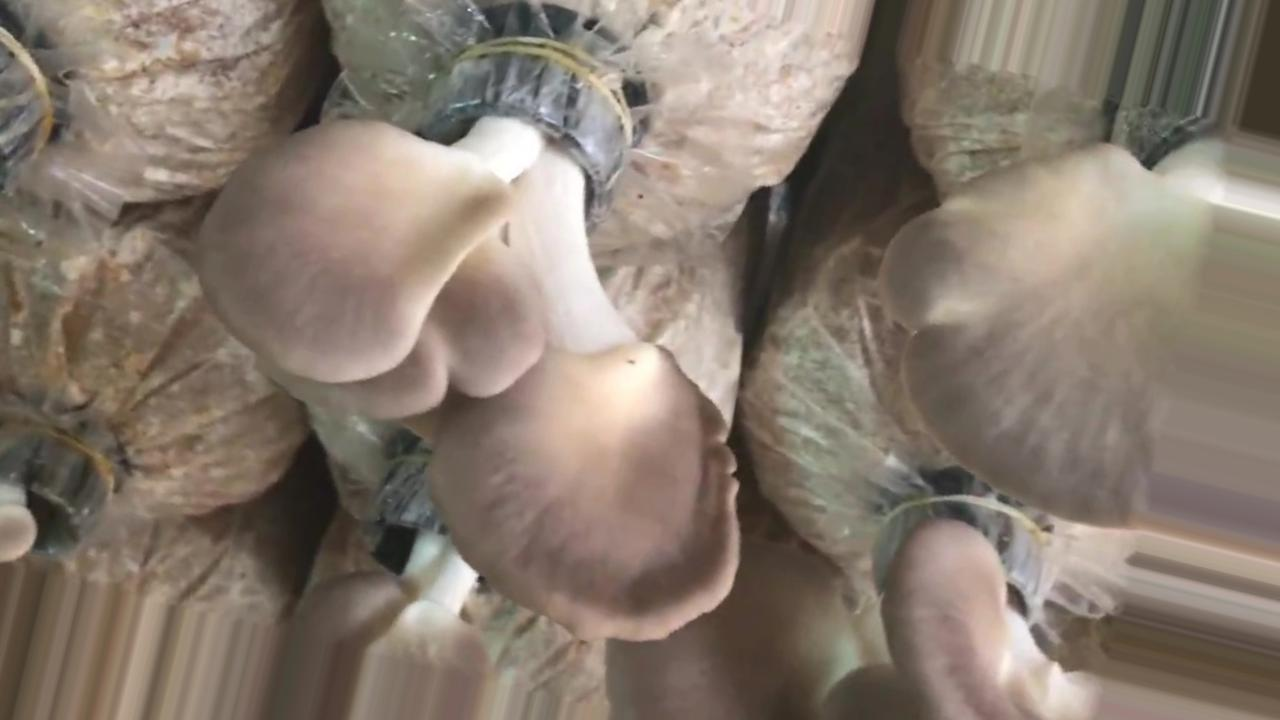nam: (198, 49, 760, 639), (880, 92, 1280, 530), (611, 499, 1102, 720), (270, 458, 499, 720), (1, 424, 101, 565)
